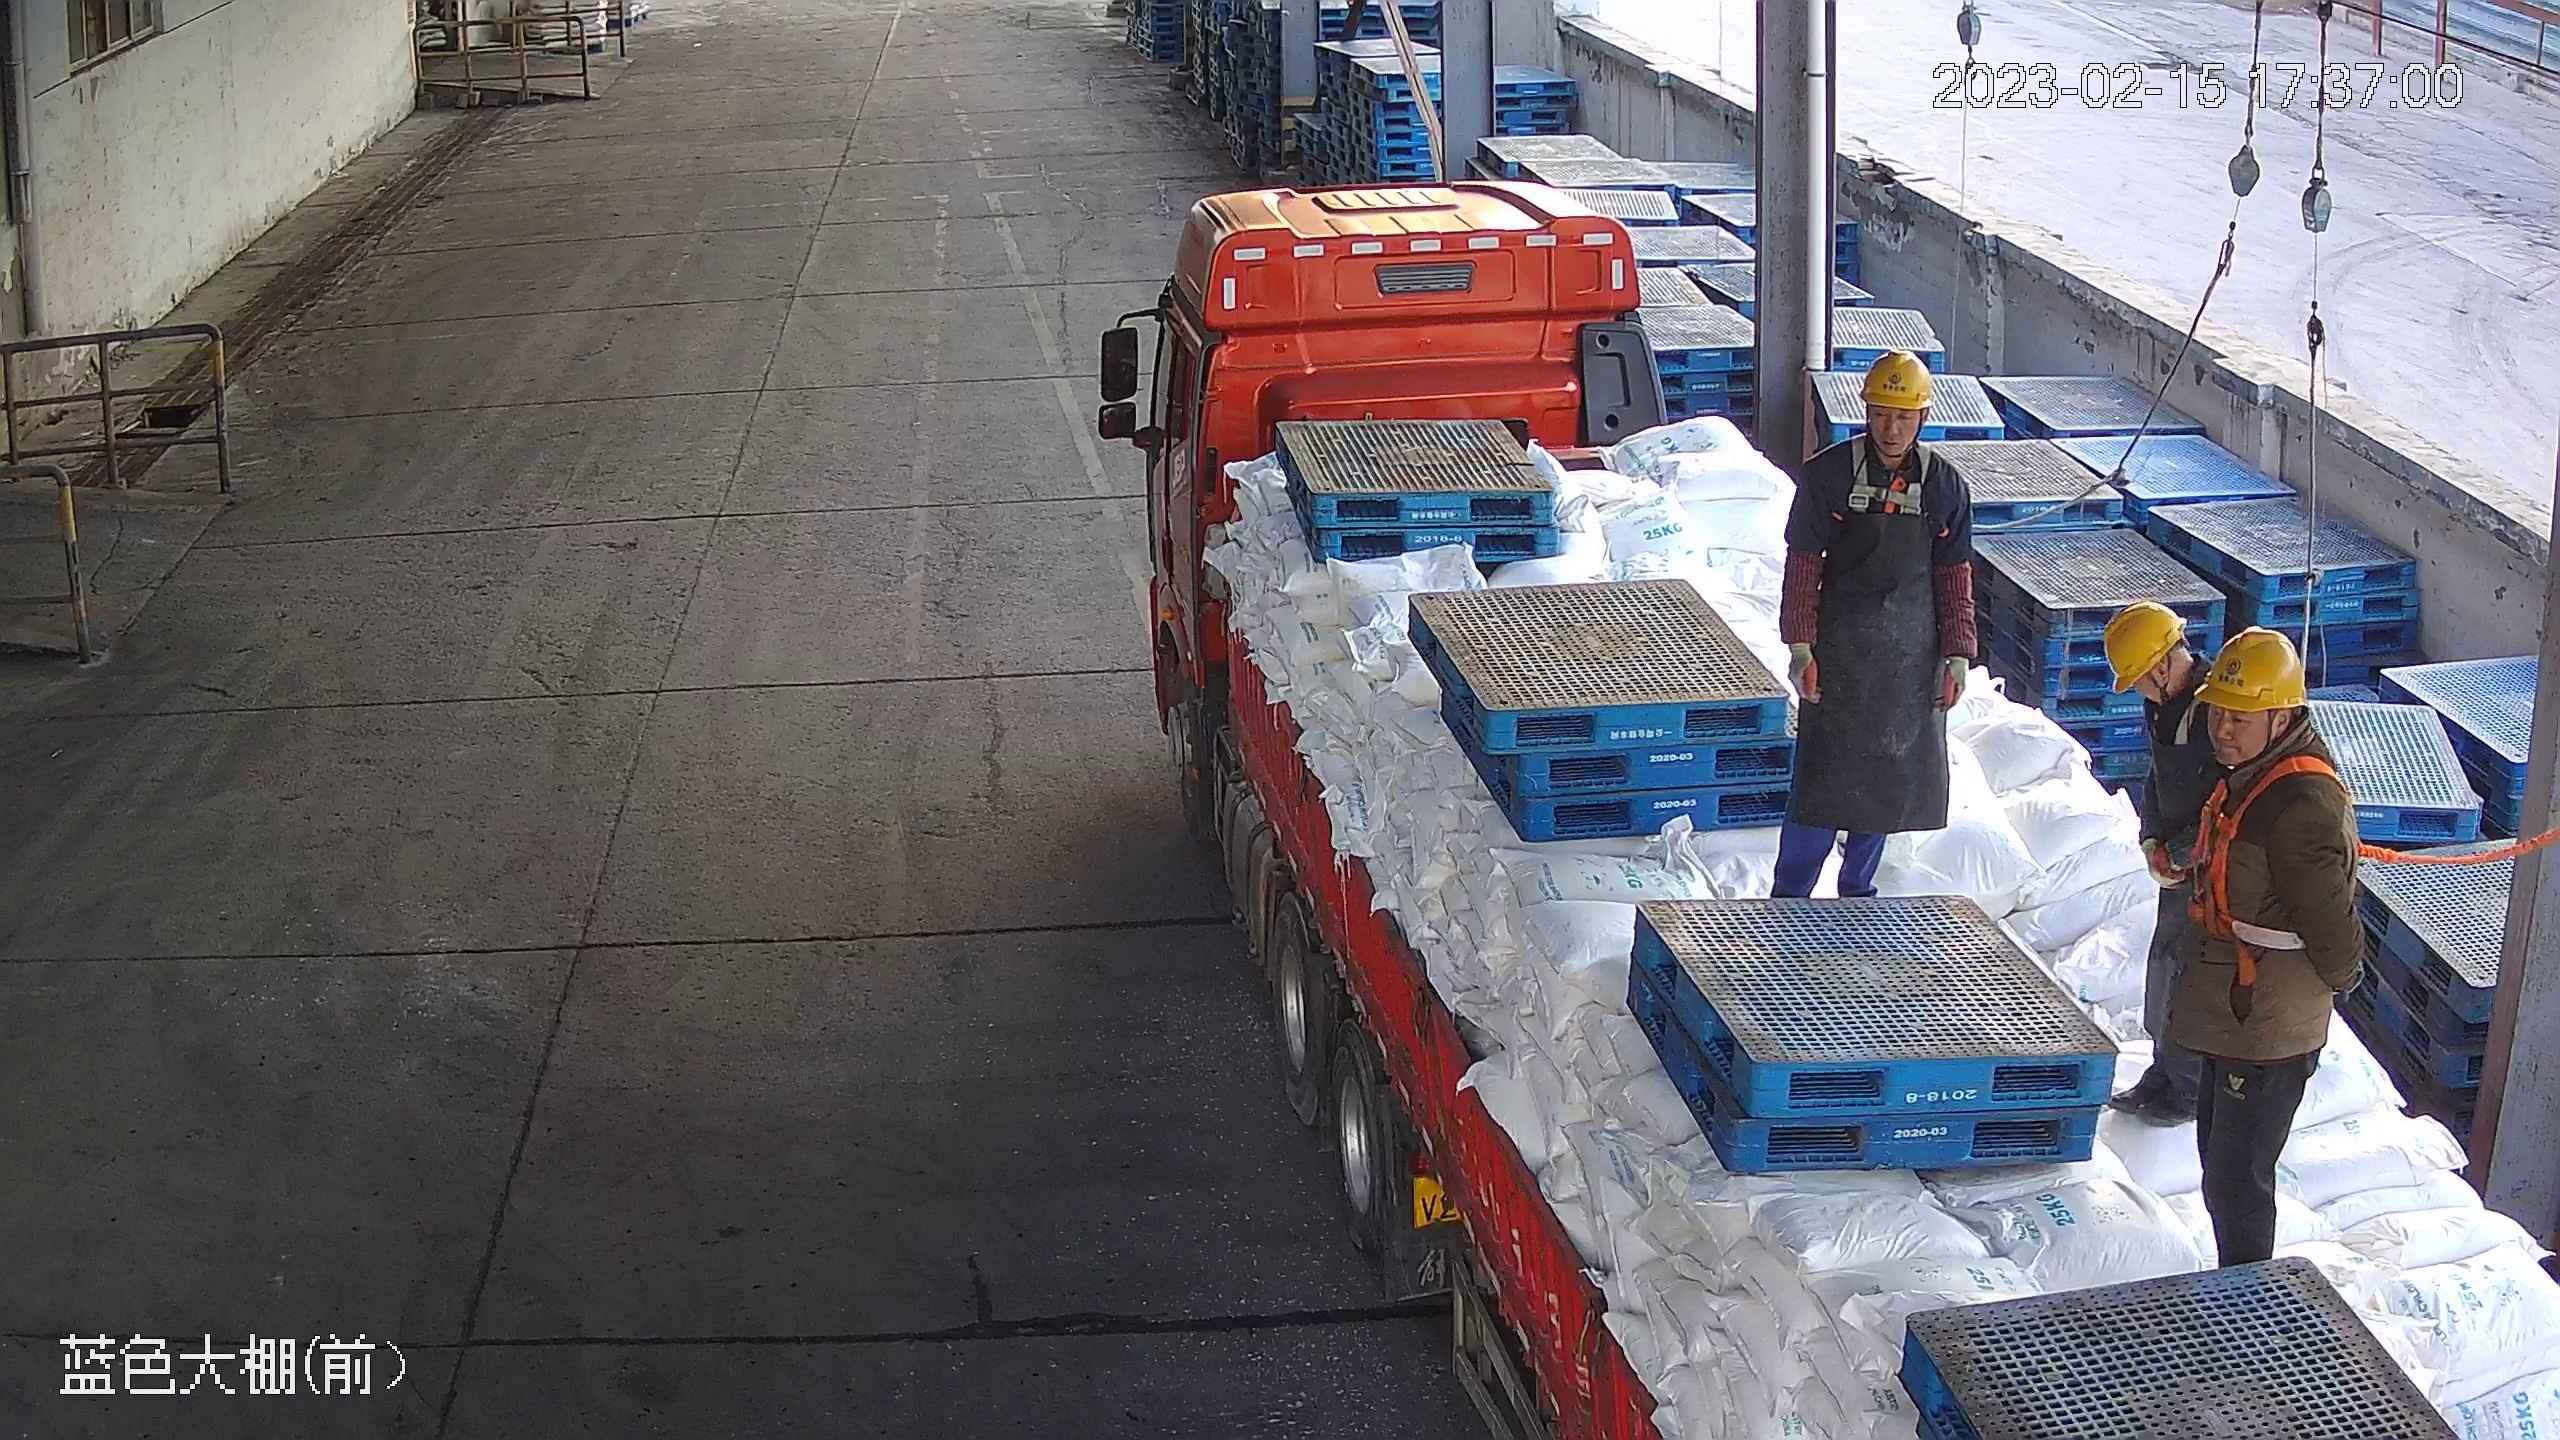belt: (2186, 756, 2373, 986), (1849, 431, 1931, 519)
head: (2192, 626, 2358, 846), (1790, 348, 1976, 513), (2104, 602, 2212, 733)
helmet: (2192, 624, 2309, 712), (2103, 602, 2188, 696), (1861, 347, 1936, 409)
people: (2170, 624, 2370, 1270), (1770, 347, 1977, 904), (2103, 600, 2213, 1129)
truck: (1076, 178, 2542, 1439)
